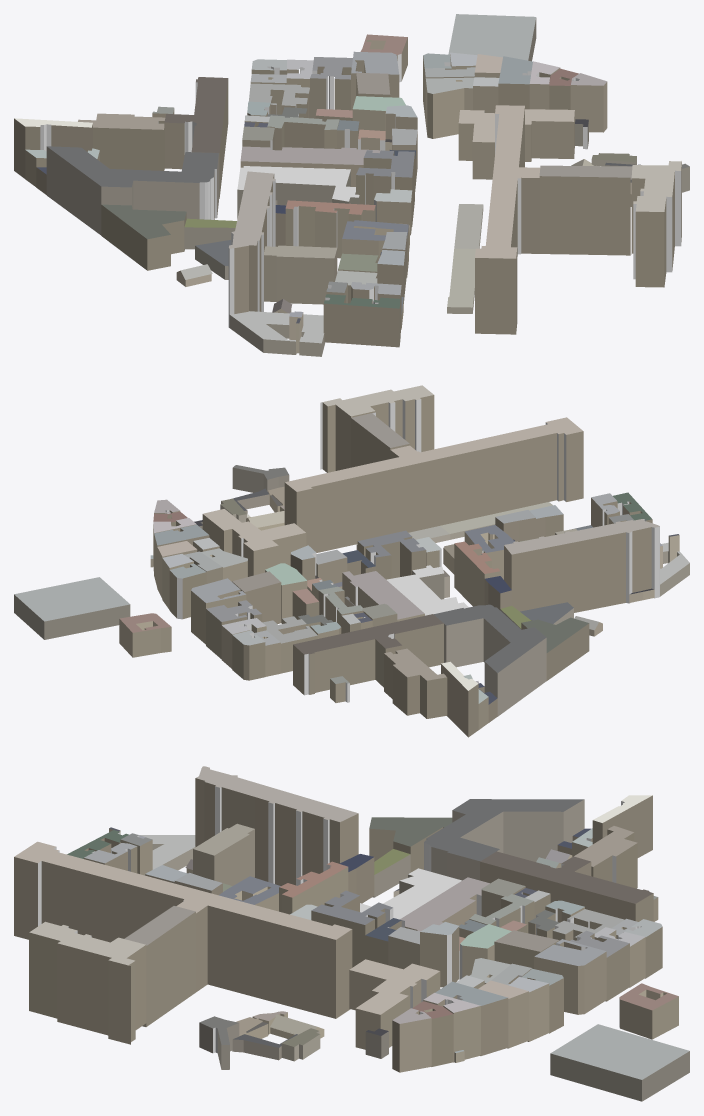
3 renders of one model, top to bottom at view 1: azimuth 30°, elevation 25°; view 2: azimuth 150°, elevation 25°; view 3: azimuth 270°, elevation 25°, orthographic. The views are drawn at different scales.
Visible parts, largest first — view 1: tuile; view 2: tuile; view 3: tuile.
Part boxes in pixels (left/top/right/bottom): tuile: left=14, top=14, right=689, bottom=356; tuile: left=14, top=385, right=689, bottom=737; tuile: left=14, top=766, right=689, bottom=1101.
Size of the model in its own units: 276 by 48.71 by 299.
